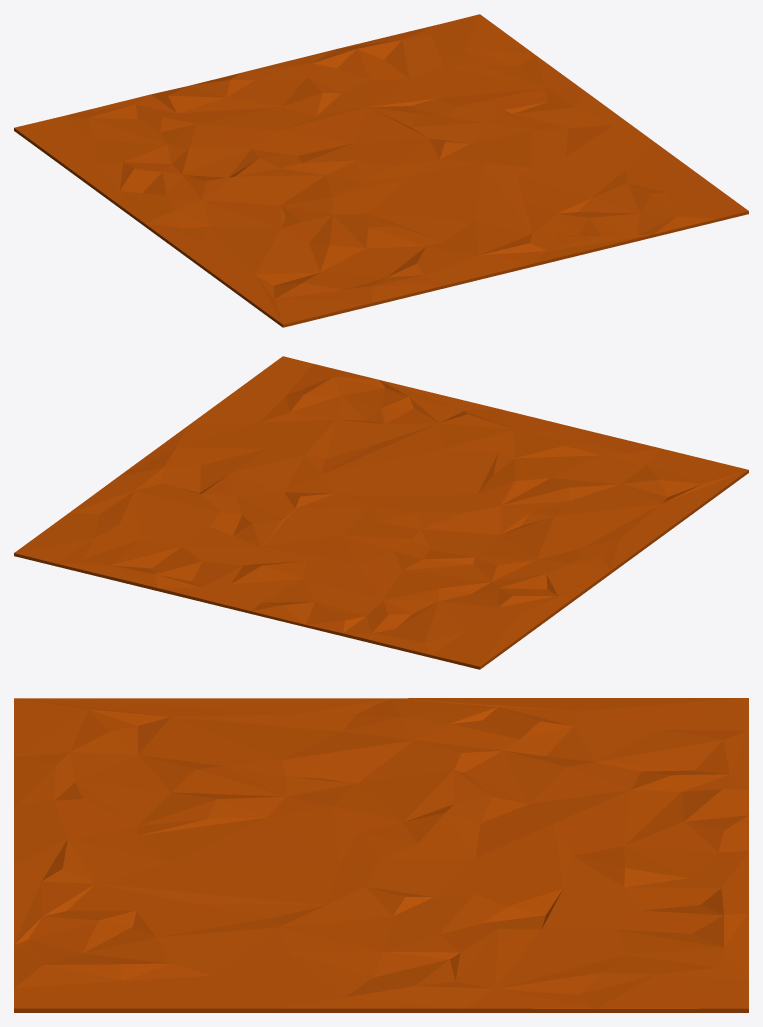
File: Floor_Module_06.glb
The picture shows the model from 3 angles, top to bottom: view 1: azimuth 30°, elevation 25°; view 2: azimuth 150°, elevation 25°; view 3: azimuth 270°, elevation 25°; orthographic projection. The views are drawn at different scales.
Visible parts, largest first — view 1: Floor_Module_06; view 2: Floor_Module_06; view 3: Floor_Module_06.
Part boxes in pixels (box(x1,y1,x2,y2)): Floor_Module_06: box(14, 14, 748, 327); Floor_Module_06: box(14, 356, 748, 669); Floor_Module_06: box(14, 698, 748, 1012).
Size of what is drawn, in the model's own units: 3 by 0.0451 by 3.
Materials: 1 (1 with a texture image).
